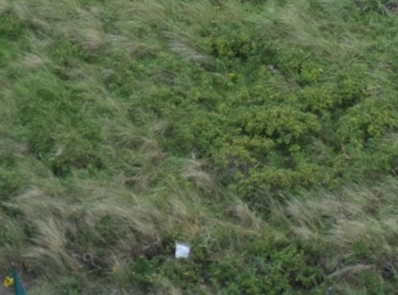white_in_green: (153, 218, 210, 277)
